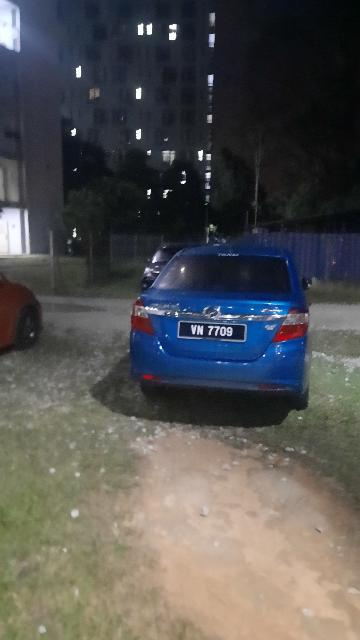License_Plate: (178, 318, 249, 344)
car: (129, 243, 316, 412)
